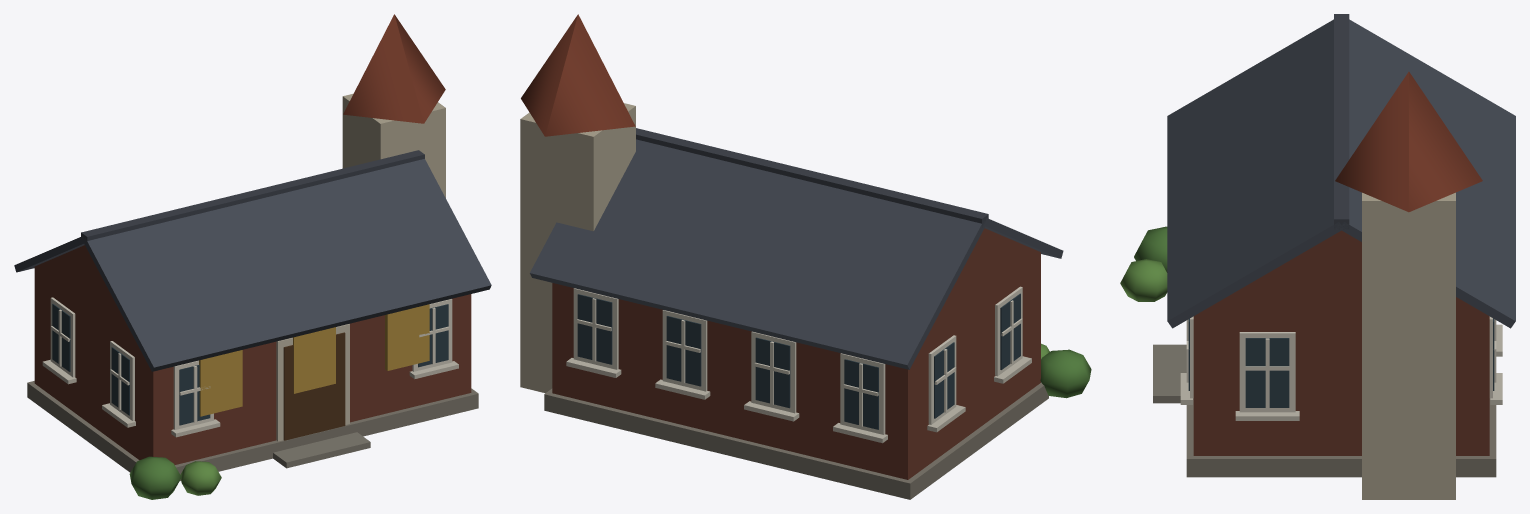
File: procedural_scriptorium@5.glb
The picture shows the model from 3 angles, left to right: view 1: azimuth 30°, elevation 25°; view 2: azimuth 150°, elevation 25°; view 3: azimuth 270°, elevation 25°; orthographic projection. The views are drawn at different scales.
Visible parts, largest first — view 1: part_0; view 2: part_0; view 3: part_0.
Boxes of the visible parts, <box> form: part_0: <box>14,14,491,499</box>; part_0: <box>520,14,1091,499</box>; part_0: <box>1120,14,1515,499</box>.
Bounding box in the file's own units: 8.8 × 6.75 × 5.88.
